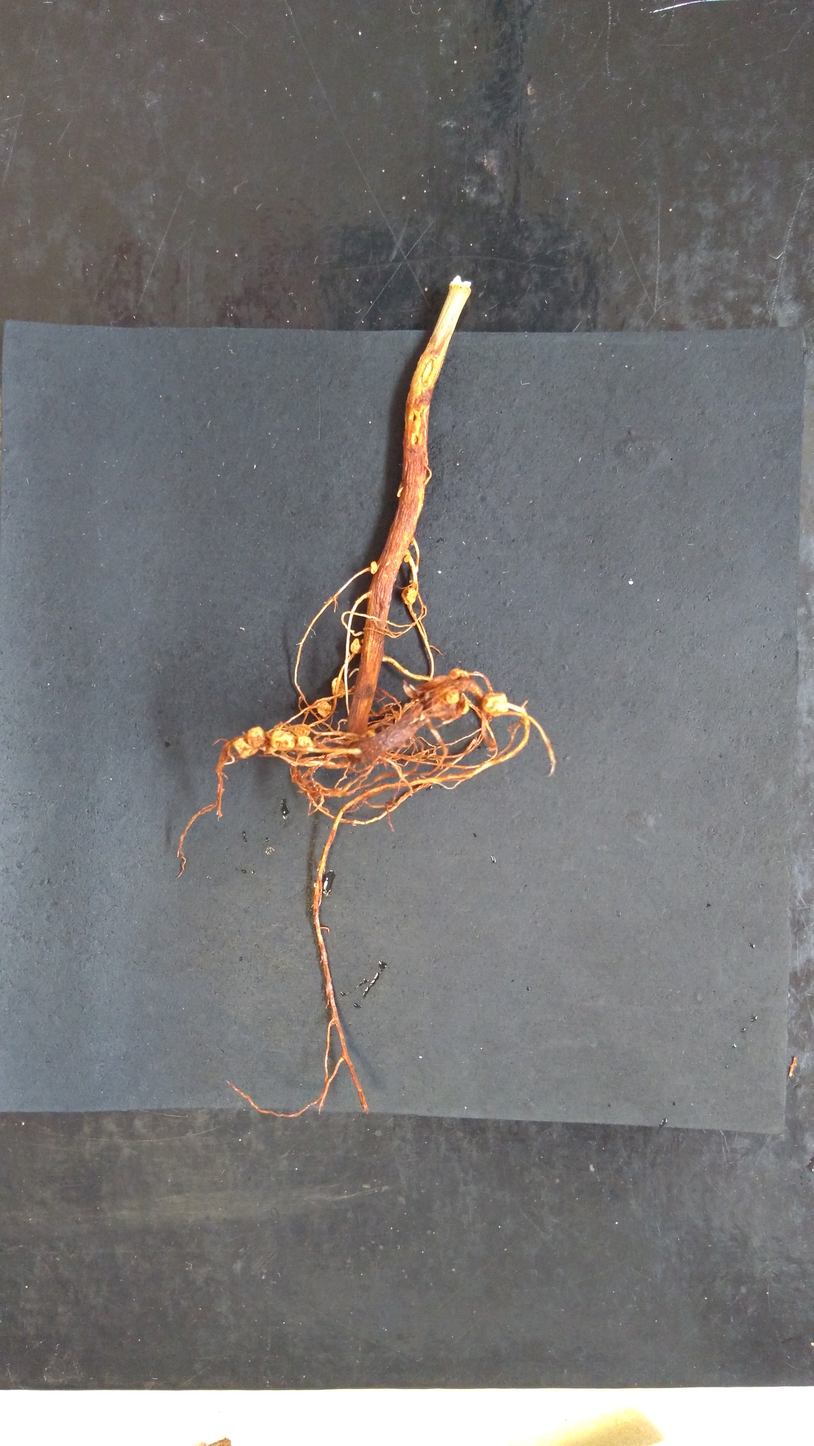nodule: (480, 690, 512, 720), (231, 736, 259, 760), (268, 729, 295, 751), (246, 725, 266, 748), (448, 667, 474, 682), (290, 721, 312, 738), (331, 676, 347, 699), (314, 700, 333, 718), (444, 687, 461, 706), (400, 587, 416, 605), (461, 692, 472, 717), (348, 637, 363, 655), (296, 735, 314, 750), (369, 561, 377, 574), (403, 553, 411, 563)
